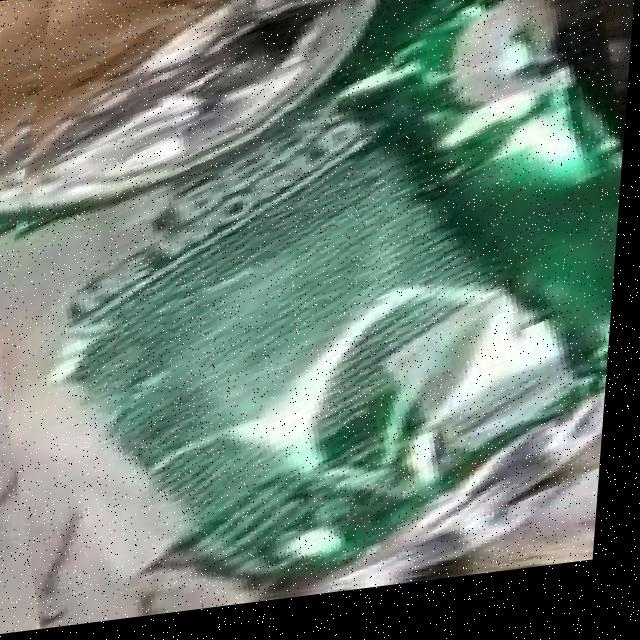can: (4, 0, 625, 604)
